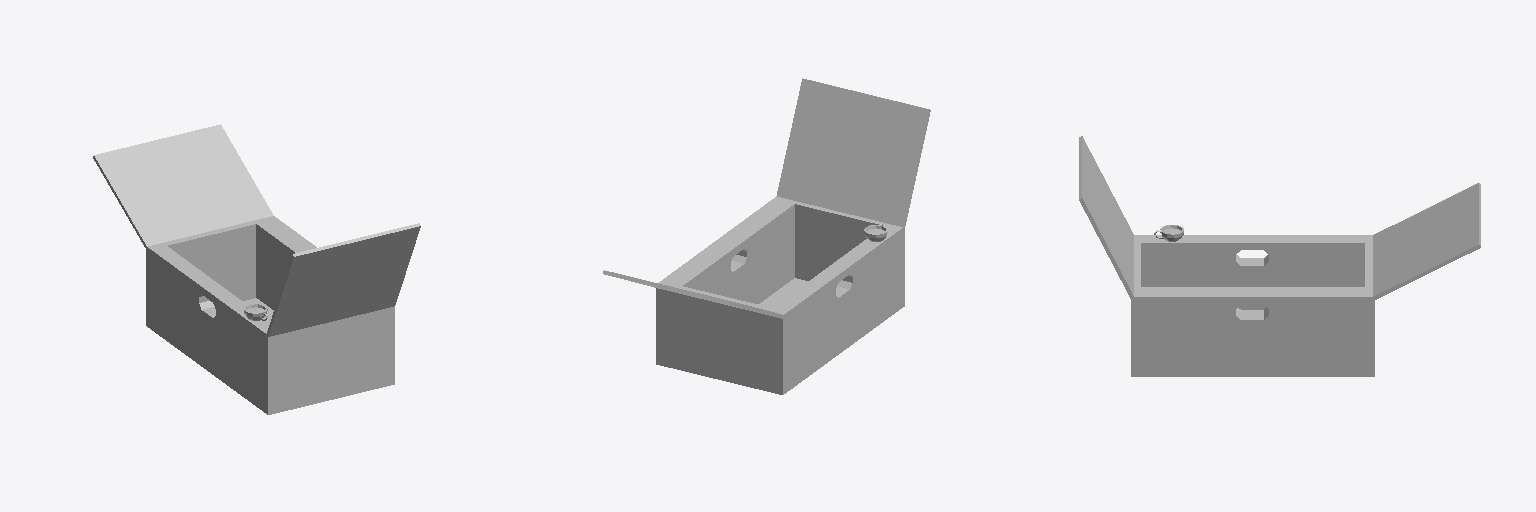
Rendered from temshop.obj.
The picture shows the model from 3 angles: view 1: azimuth 30°, elevation 25°; view 2: azimuth 150°, elevation 25°; view 3: azimuth 270°, elevation 25°; orthographic projection.
Parts seen in each view (by area): view 1: pCube18, pCube17, pCube16; view 2: pCube18, pCube16, pCube17; view 3: pCube18, pCube17, pCube16.
Boxes of the visible parts, x1,y1,x2,y2 form: pCube18: [146, 216, 394, 414]; pCube17: [93, 124, 273, 249]; pCube16: [266, 223, 420, 336]; pCube18: [656, 196, 904, 394]; pCube16: [777, 78, 930, 228]; pCube17: [603, 270, 783, 318]; pCube18: [1131, 235, 1374, 376]; pCube17: [1372, 183, 1480, 300]; pCube16: [1079, 136, 1133, 299].
Bounding box in the file's own units: 3.66 × 4.84 × 9.88.